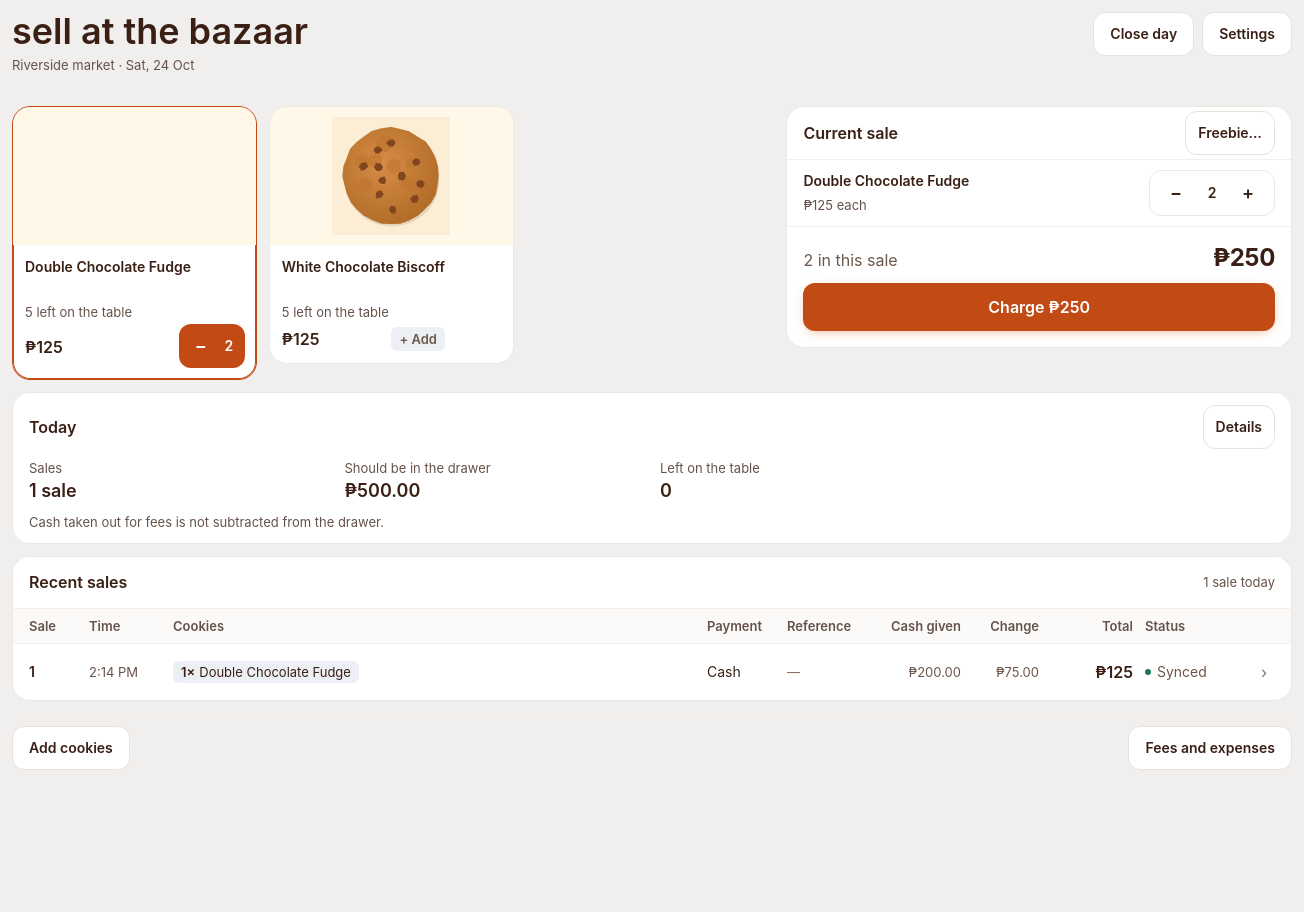
it: the consolidated till calls the ported handlers › a freebie question left open closes when the sale empties, and the next sale starts without it
Click the button "Freebie…" at [1230, 133], box [1185,111,1275,155]
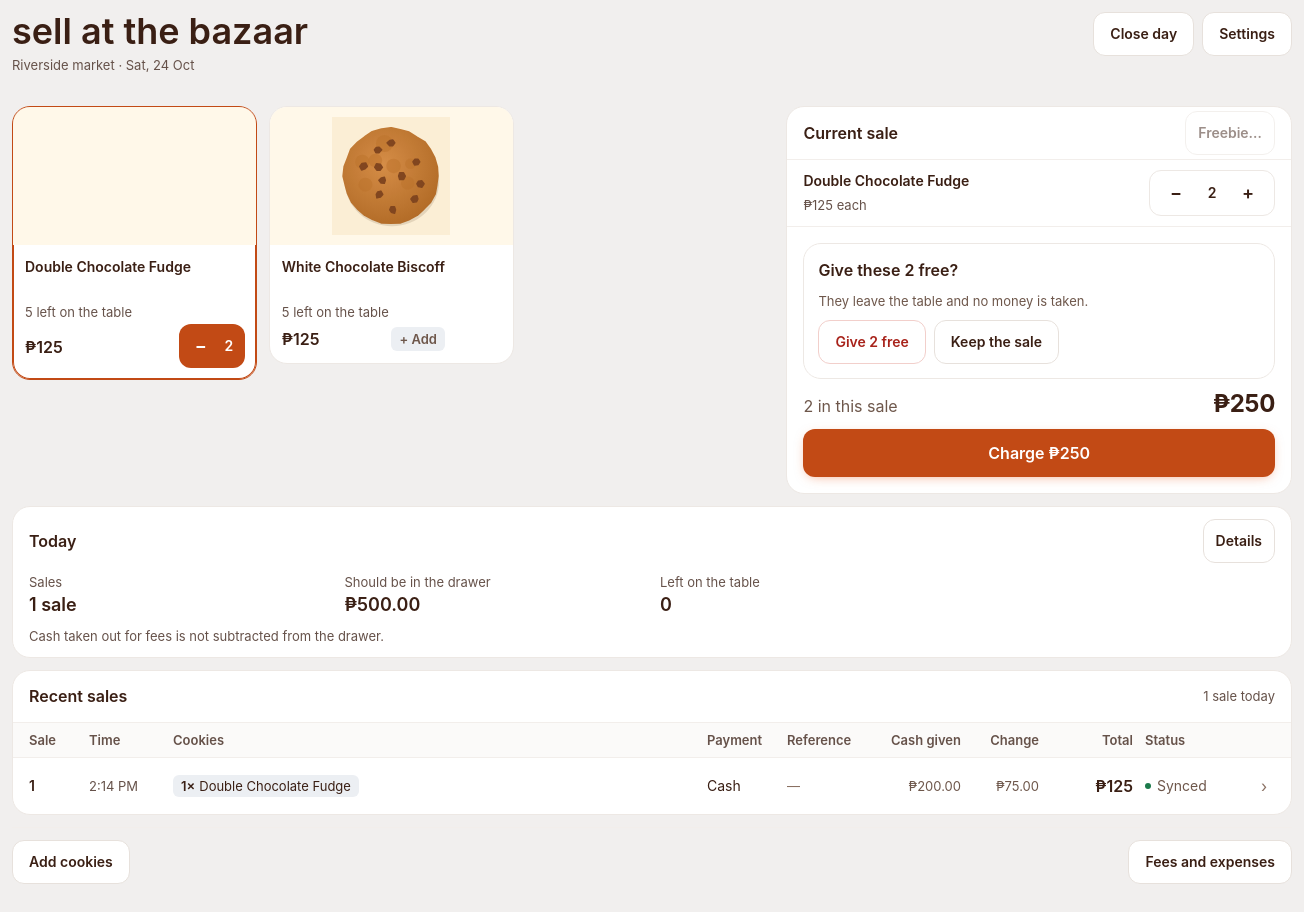
Expected: the element named "Give as a freebie" is shown, [803,243,1275,379]
